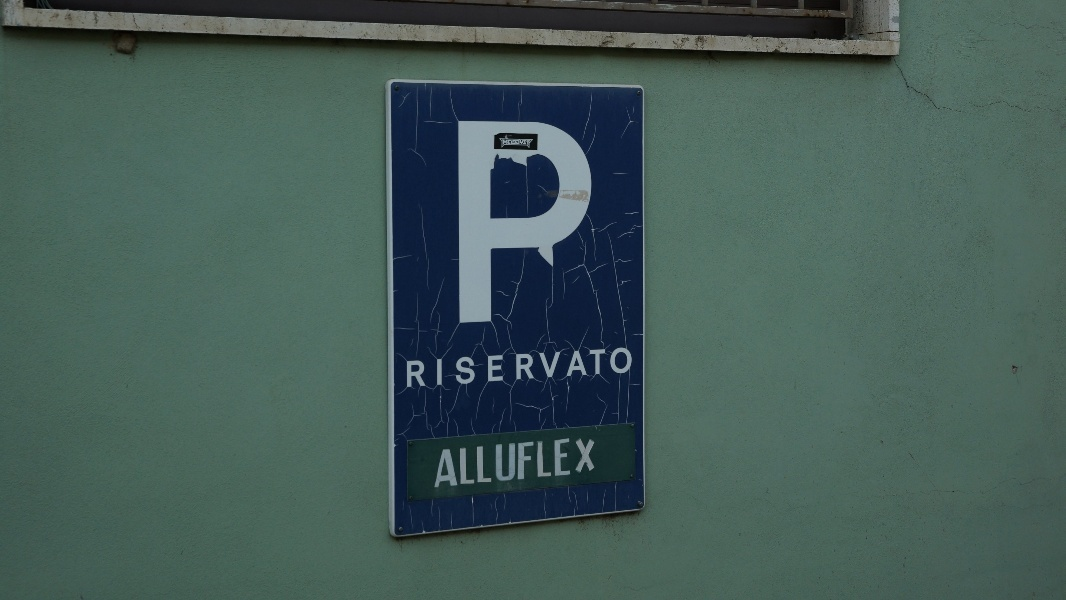text: (465, 120, 480, 325), (481, 120, 496, 325), (497, 120, 512, 325), (513, 120, 528, 325), (529, 120, 544, 325), (545, 120, 560, 325), (561, 120, 576, 325), (577, 120, 592, 325), (458, 120, 464, 325), (449, 438, 464, 488), (465, 438, 480, 488), (481, 438, 496, 488), (497, 438, 512, 488), (513, 438, 528, 488), (529, 438, 544, 488), (545, 438, 560, 488), (561, 438, 576, 488), (577, 438, 592, 488), (593, 120, 596, 325), (417, 347, 432, 388), (433, 347, 448, 388), (449, 347, 464, 388), (465, 347, 480, 388), (481, 347, 496, 388), (497, 347, 512, 388), (513, 347, 528, 388), (529, 347, 544, 388), (545, 347, 560, 388), (561, 347, 576, 388), (577, 347, 592, 388), (593, 347, 608, 388), (609, 347, 624, 388), (407, 347, 416, 388), (625, 347, 633, 388), (443, 438, 448, 488), (593, 438, 598, 488), (513, 140, 528, 145), (502, 140, 512, 145), (529, 140, 531, 145)
